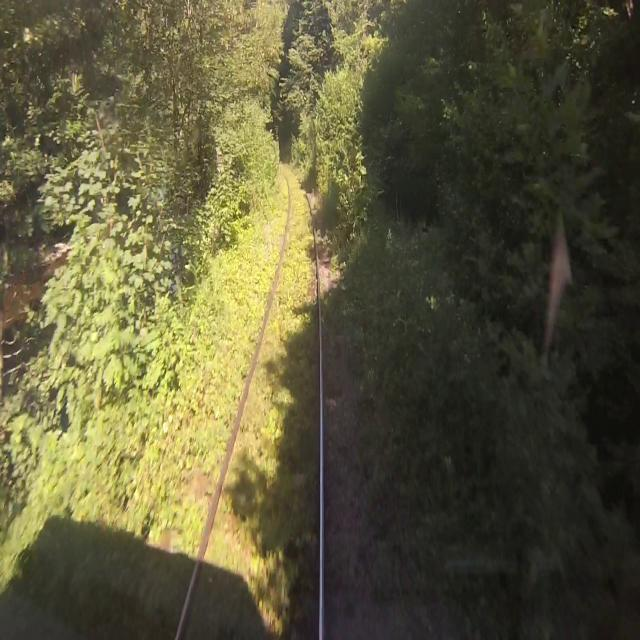Plant: (174, 162, 321, 639), (155, 178, 288, 561), (327, 485, 390, 613), (122, 542, 193, 639), (321, 287, 349, 398)
